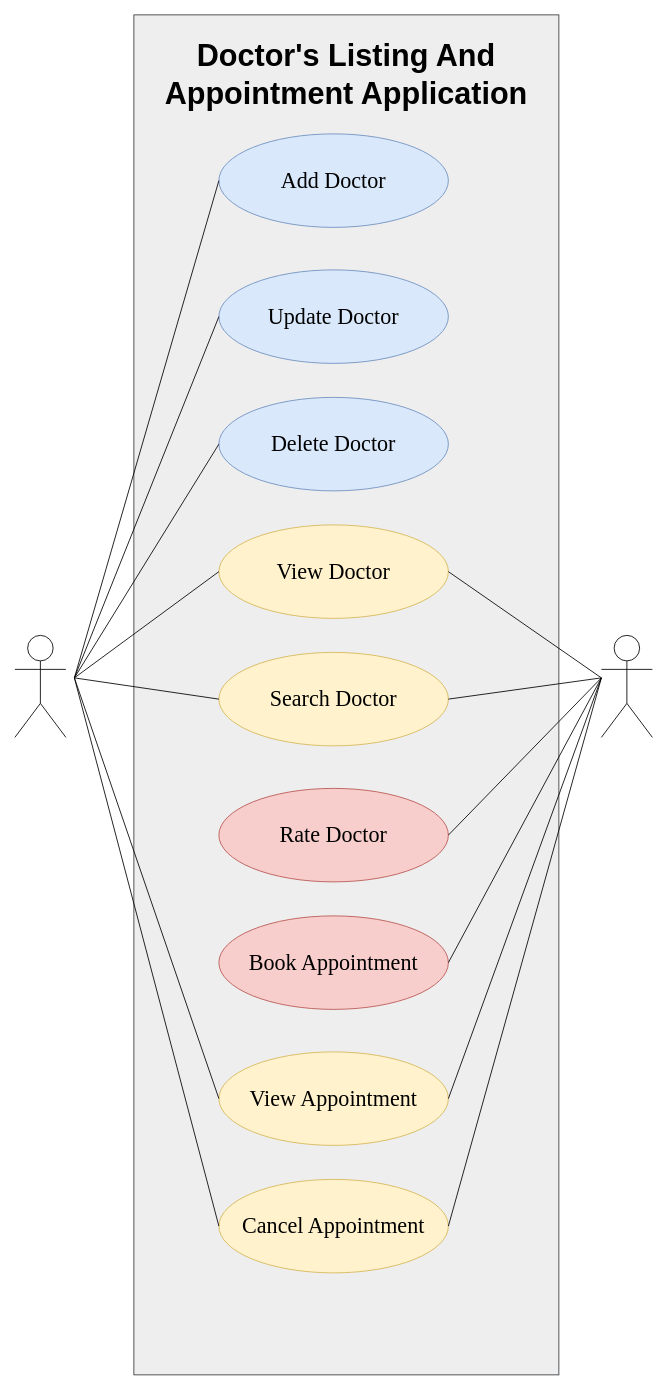
Some shapes in this 667 by 1397 pixel diagram are drawn without their labels. The shapes that lost their labels are listed below. From the top down, each one's box as (x1, y1, x2, y2) in pixels, then its label:
(14, 635, 66, 737): ADMIN
(601, 635, 652, 737): USER
